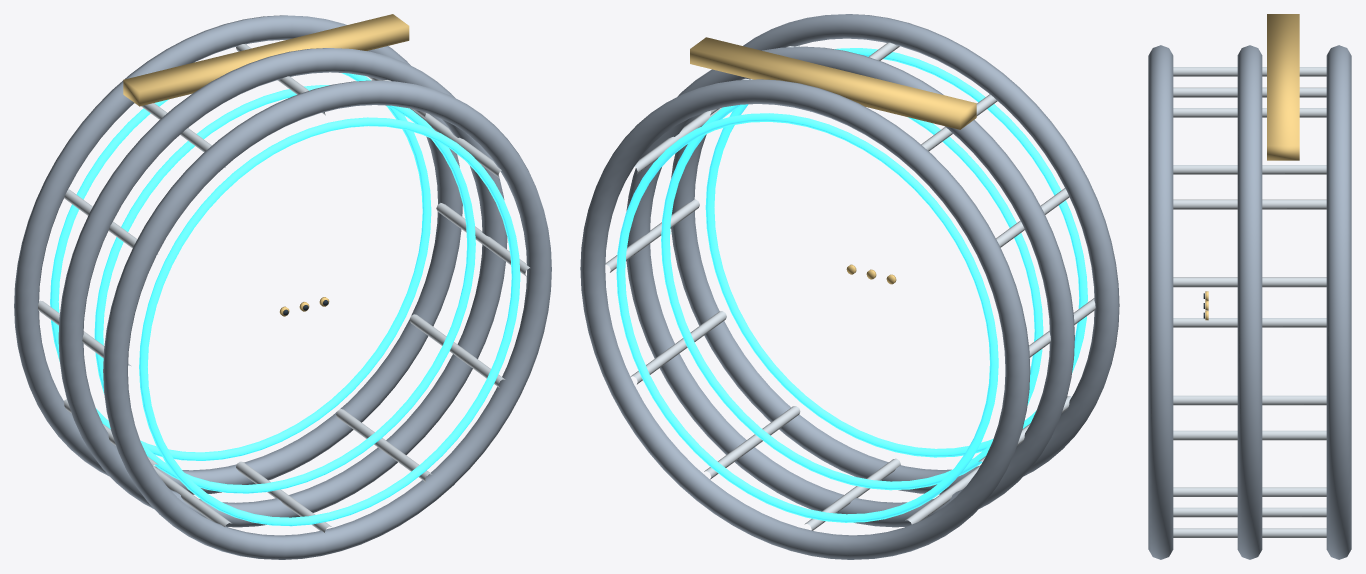
Rendered from 05_L90_ThrusterPlasmaTestChamber.glb.
3 renders of one model, left to right at view 1: azimuth 30°, elevation 25°; view 2: azimuth 150°, elevation 25°; view 3: azimuth 270°, elevation 25°, orthographic.
Visible parts, largest first — view 1: L90_ThrusterPlasmaTestChamber, L90_ThrusterPlasmaTestChamber_Part_0003; view 2: L90_ThrusterPlasmaTestChamber, L90_ThrusterPlasmaTestChamber_Part_0003; view 3: L90_ThrusterPlasmaTestChamber, L90_ThrusterPlasmaTestChamber_Part_0003.
Part boxes in pixels (x1,y1,x2,y2): L90_ThrusterPlasmaTestChamber: [14, 15, 551, 559]; L90_ThrusterPlasmaTestChamber_Part_0003: [123, 14, 409, 106]; L90_ThrusterPlasmaTestChamber: [580, 14, 1119, 559]; L90_ThrusterPlasmaTestChamber_Part_0003: [690, 37, 976, 129]; L90_ThrusterPlasmaTestChamber: [1148, 45, 1351, 559]; L90_ThrusterPlasmaTestChamber_Part_0003: [1267, 14, 1299, 160].
Size of the model in its own units: 6.94 by 6.93 by 2.73.
